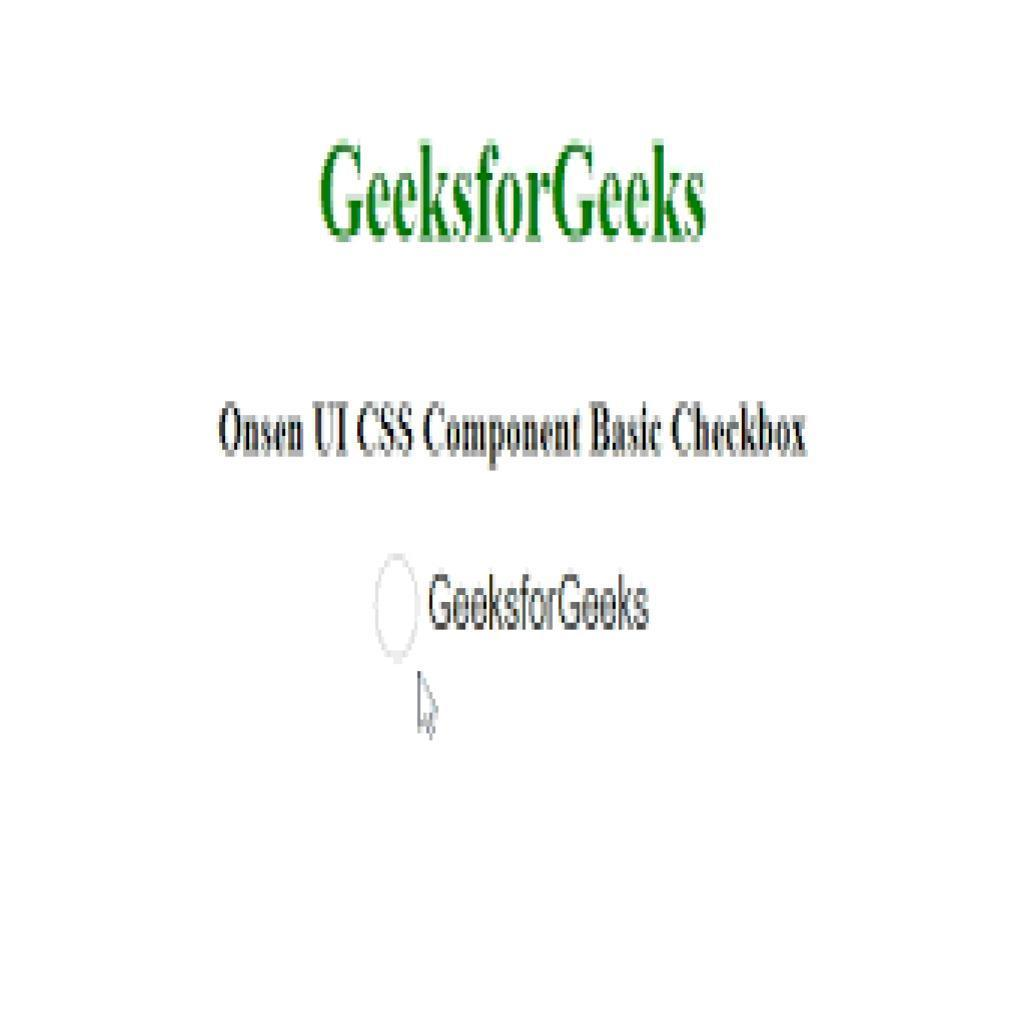radio: (373, 543, 421, 669)
